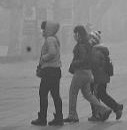person: (64, 25, 110, 123), (29, 21, 66, 127), (86, 29, 124, 123)
